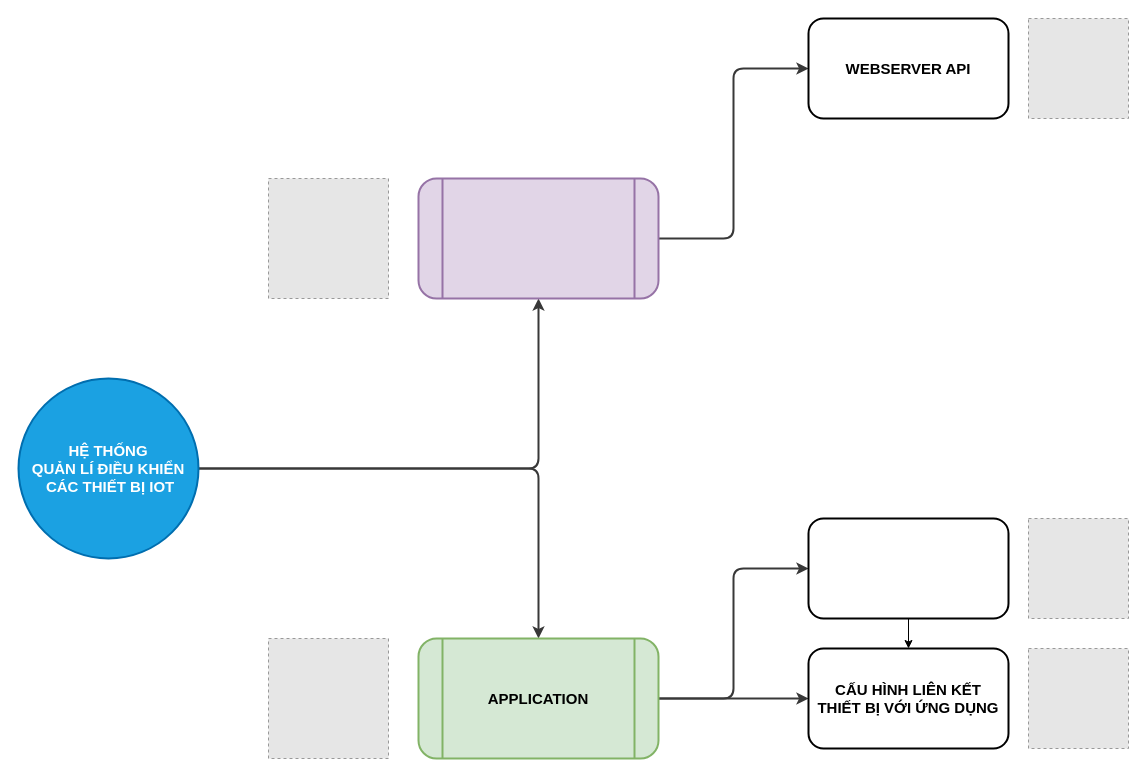
The diagram is 1146 pixels wide and 776 high, and some of its shapes have lost their labels. Grey dashed boxes stand in for pictures. Here are the shapes that lost their labels. From the top down, the centre of each, then its label:
the point at 538,238: MODULE ESP8266
the point at 908,568: CẤU HÌNH WIFI THIẾT BỊ
